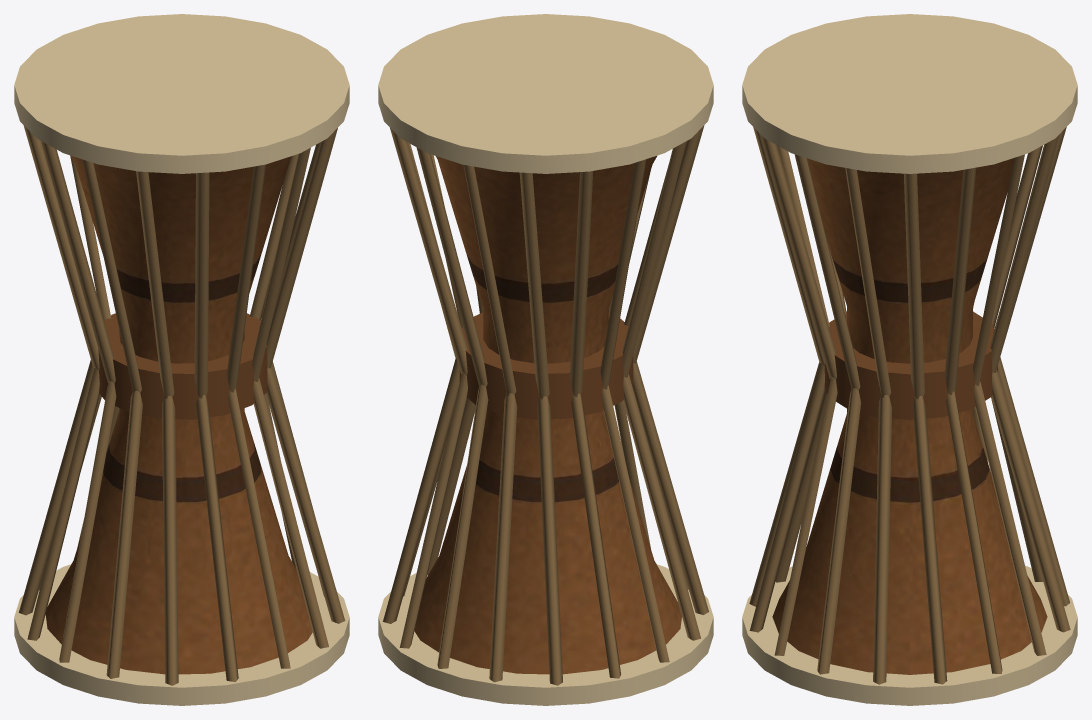
Rendered from tambour.glb.
3 renders of one model, left to right at view 1: azimuth 30°, elevation 25°; view 2: azimuth 150°, elevation 25°; view 3: azimuth 270°, elevation 25°, orthographic.
Parts seen in each view (by area): view 1: tambour; view 2: tambour; view 3: tambour.
Part boxes in pixels (x1=…): tambour: x1=14, y1=14, x2=349, y2=705; tambour: x1=378, y1=14, x2=713, y2=705; tambour: x1=742, y1=14, x2=1077, y2=705.
Size of the model in its own units: 0.4 by 0.724 by 0.4.
Materials: 4 (1 with a texture image).
